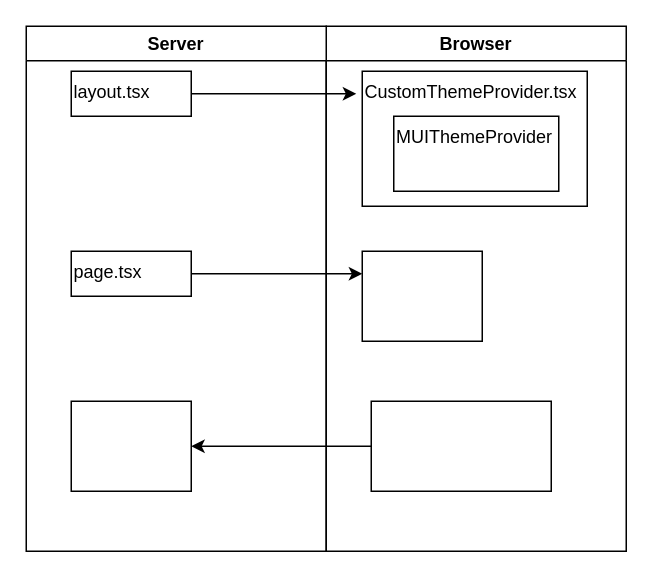
Some shapes in this 653 by 578 pixel diagram are drawn without their labels. Here are the shapes that lost their labels. From the top down, the centre of each, then its label:
the point at 421,295: Dashboard.tsx
the point at 130,445: main.ts sets cookie
the point at 460,445: LightDarkSwitch.tsx
